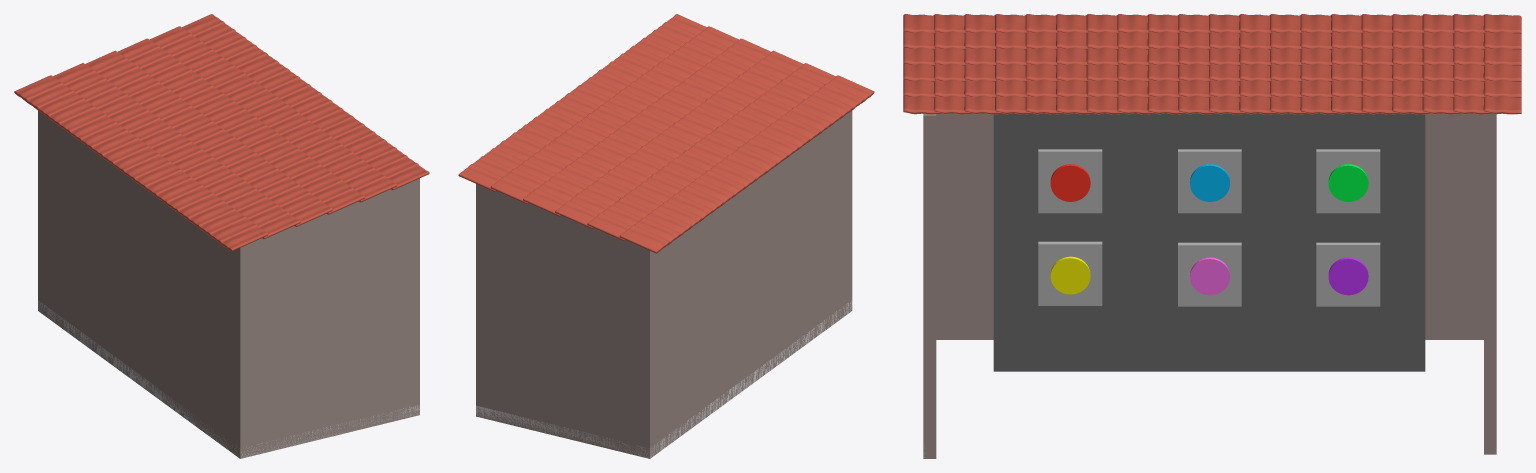
The model's file is saklar lampu.fbx.
3 views of the same model, side by side, from view 1: azimuth 30°, elevation 25°; view 2: azimuth 150°, elevation 25°; view 3: azimuth 270°, elevation 25° (orthographic). The views are drawn at different scales.
Visible parts, largest first — view 1: Room, Roof, Baseboard; view 2: Room, Roof, Baseboard; view 3: Cube, Roof, Room, Cube.001, Cube.003, Cube.004, Cube.006, Cube.005, Cube.002, Cylinder.004, Cylinder.006, Cylinder.001 (+3 smaller).
Boxes of the visible parts, x1,y1,x2,y2 form: Room: (38,111,419,458); Roof: (14,14,429,251); Baseboard: (38,300,419,458); Room: (476,111,852,458); Roof: (458,14,874,253); Baseboard: (476,300,852,458); Cube: (993,113,1425,371); Roof: (903,14,1521,114); Room: (923,113,1496,458); Cube.001: (1038,149,1102,213); Cube.003: (1316,149,1380,213); Cube.004: (1038,241,1102,305); Cube.006: (1316,242,1380,306); Cube.005: (1178,242,1241,306); Cube.002: (1178,149,1241,213); Cylinder.004: (1050,256,1090,294); Cylinder.006: (1328,257,1368,295); Cylinder.001: (1050,164,1090,201).
Bounding box in the file's own units: 228 × 271 × 433.
